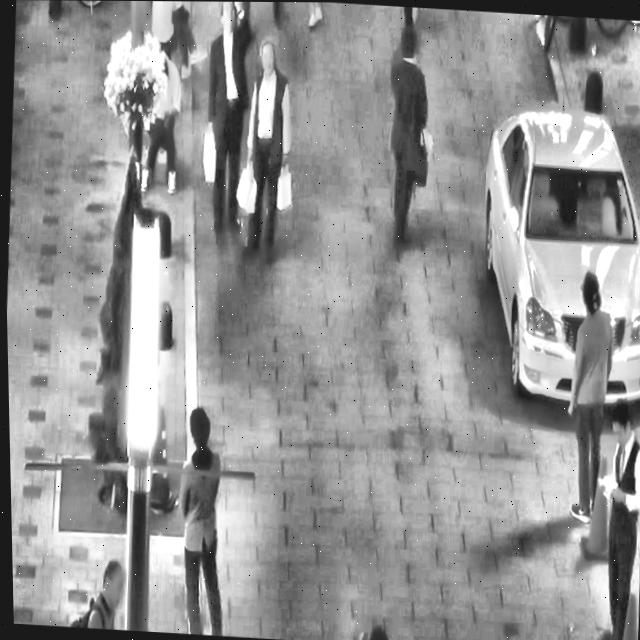light_vehicle: (464, 84, 640, 414)
